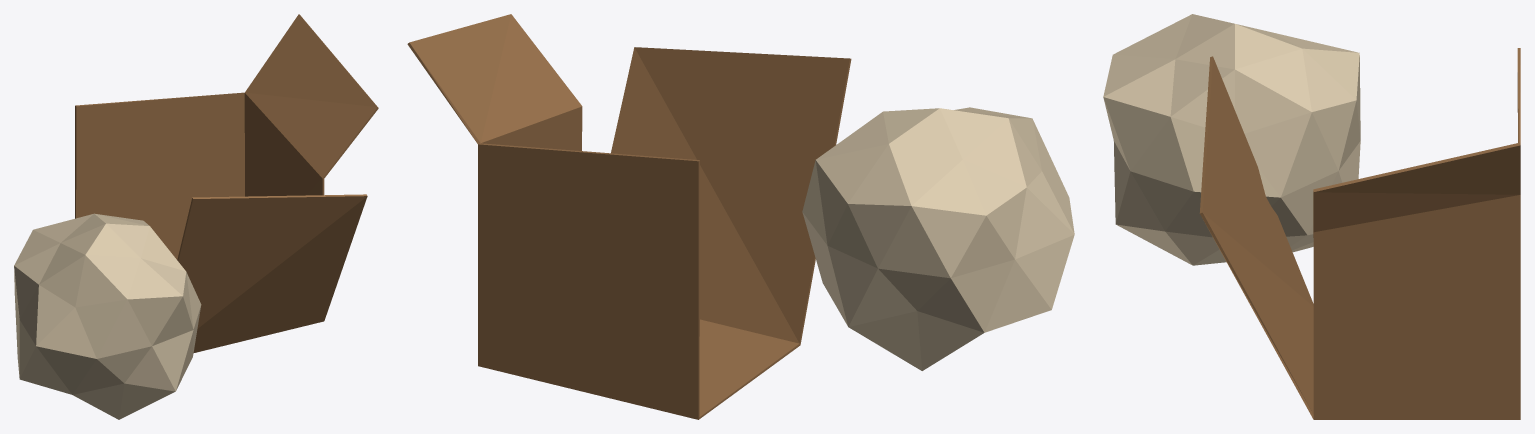
Rendered from PaperCardboard_Final.fbx.
3 views of the same model, side by side, from view 1: azimuth 30°, elevation 25°; view 2: azimuth 150°, elevation 25°; view 3: azimuth 270°, elevation 25° (orthographic). The views are drawn at different scales.
Parts seen in each view (by area): view 1: PaperCardboard_Final; view 2: PaperCardboard_Final; view 3: PaperCardboard_Final.
Part boxes in pixels (x1=…): PaperCardboard_Final: x1=14, y1=14, x2=378, y2=419; PaperCardboard_Final: x1=407, y1=14, x2=1074, y2=419; PaperCardboard_Final: x1=1103, y1=14, x2=1520, y2=419.
Bounding box in the file's own units: 0.2858 × 0.166 × 0.2016.
